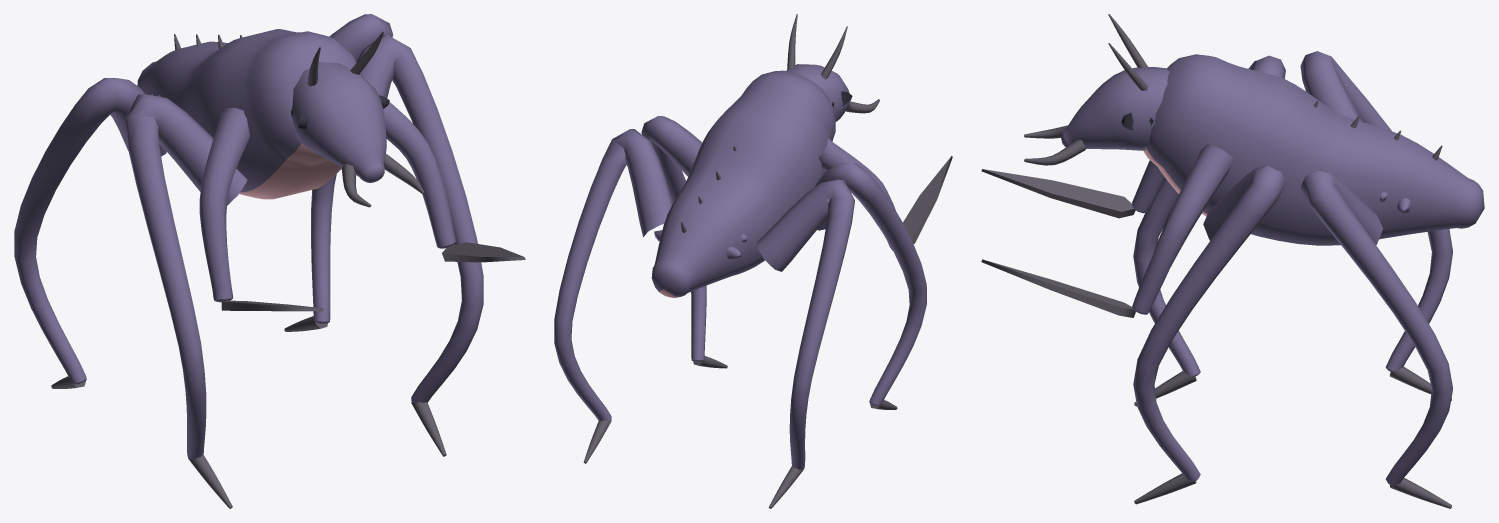
The model's file is xeno-species-and-alien-creatures-chitinous-insectoid-w-f987f1ff__21113.glb.
The picture shows the model from 3 angles, left to right: view 1: azimuth 30°, elevation 25°; view 2: azimuth 150°, elevation 25°; view 3: azimuth 270°, elevation 25°; orthographic projection. The views are drawn at different scales.
Visible parts, largest first — view 1: chitinous-insectoid-warrior; view 2: chitinous-insectoid-warrior; view 3: chitinous-insectoid-warrior.
Part boxes in pixels (<box>): chitinous-insectoid-warrior: <box>14,14,525,508</box>; chitinous-insectoid-warrior: <box>554,14,952,508</box>; chitinous-insectoid-warrior: <box>981,14,1484,508</box>.
Size of the model in its own units: 1.34 by 1.79 by 1.91.
